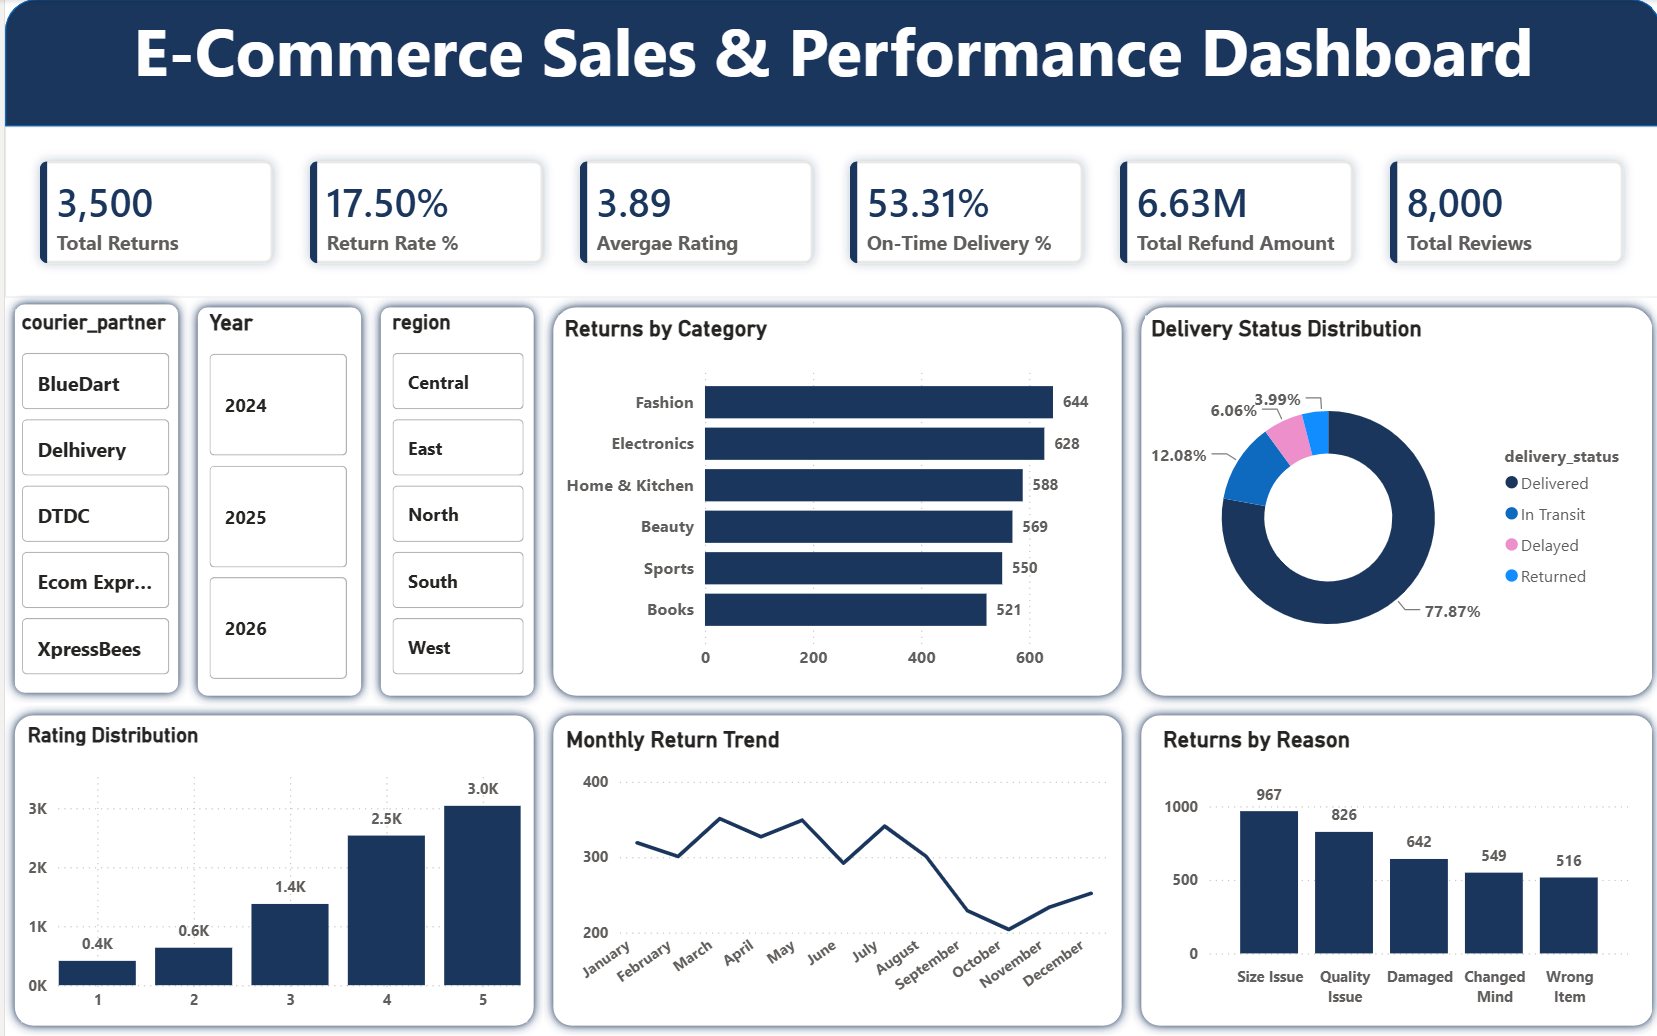

The dashboard page shown, as its layout file describes it:
{"tool":"powerbi","page":{"name":"Returns, Review & Delivery Analysis","canvas":[1350,845],"ordinal":3},"visuals":[{"type":"cardVisual","fields":{"Data":["_Measures.Total Returns","_Measures.Return Rate %","_Measures.Avergae Rating","_Measures.On-Time Delivery %","_Measures.Total Refund Amount","_Measures.Total Reviews"]},"box":[0,103.9,1350.4,139.3],"z":0},{"type":"shape","box":[0,0,1350.4,103.9],"z":1},{"type":"textbox","box":[0,0,1350.4,85.5],"z":2},{"type":"shape","box":[917.8,243.2,432.6,332.4],"z":3},{"type":"shape","box":[917.8,575.6,432.6,268.9],"z":5},{"type":"columnChart","title":"Returns by Reason ","fields":{"Y":["_Measures.Total Returns"],"Category":["returns.return_reason"]},"box":[938.6,592.7,389.8,235.9],"z":6},{"type":"shape","box":[0,575.6,438.7,268.9],"z":8},{"type":"shape","box":[438.7,575.6,479.1,268.9],"z":9},{"type":"lineChart","title":"Monthly Return Trend","fields":{"Y":["_Measures.Total Returns"],"Category":["DateTable.Month"]},"box":[452.2,592.7,451,235.9],"z":10},{"type":"donutChart","title":"Delivery Status Distribution","fields":{"Category":["shipping.delivery_status"],"Y":["CountNonNull(shipping.shipping_id)"]},"box":[928.8,257.9,407,298.2],"z":11},{"type":"columnChart","title":"Rating Distribution","fields":{"Category":["reviews.rating"],"Y":["CountNonNull(reviews.review_id)"]},"box":[13.4,589.1,411.8,244.4],"z":12},{"type":"shape","box":[438.7,243.2,479.1,332.4],"z":13},{"type":"barChart","title":"Returns by Category","fields":{"Category":["products.category"],"Y":["CountNonNull(returns.return_id)"]},"box":[451,257.9,448.5,298.2],"z":14},{"type":"shape","box":[0,240.8,149.1,332.4],"z":15},{"type":"shape","box":[149.1,243.2,149.1,332.4],"z":19},{"type":"advancedSlicerVisual","fields":{"Values":["shipping.courier_partner"]},"box":[8.6,253,130.8,306.7],"z":20},{"type":"shape","box":[298.2,243.2,140.5,332.4],"z":21},{"type":"advancedSlicerVisual","fields":{"Values":["locations.region"]},"box":[310.4,253,117.3,306.7],"z":23},{"type":"advancedSlicerVisual","fields":{"Values":["DateTable.Year"]},"box":[161.3,253,122.2,306.7],"z":24}]}

Visuals, with their boxes in screenshot pixels (x1, y1, x2, y2), scaled from the page's 1350x845 canvas onto the 1657x1036 screenshot:
cardVisual - _Measures.Total Returns x _Measures.Return Rate %: [0,127,1656,298]
shape: [0,0,1656,127]
textbox: [0,0,1656,105]
shape: [1127,298,1656,706]
shape: [1127,706,1656,1035]
"Returns by Reason " columnChart: [1152,727,1630,1016]
shape: [0,706,538,1035]
shape: [538,706,1127,1035]
"Monthly Return Trend" lineChart: [555,727,1109,1016]
"Delivery Status Distribution" donutChart: [1140,316,1640,682]
"Rating Distribution" columnChart: [16,722,522,1022]
shape: [538,298,1127,706]
"Returns by Category" barChart: [554,316,1104,682]
shape: [0,295,183,703]
shape: [183,298,366,706]
advancedSlicerVisual - shipping.courier_partner: [11,310,171,686]
shape: [366,298,538,706]
advancedSlicerVisual - locations.region: [381,310,525,686]
advancedSlicerVisual - DateTable.Year: [198,310,348,686]
